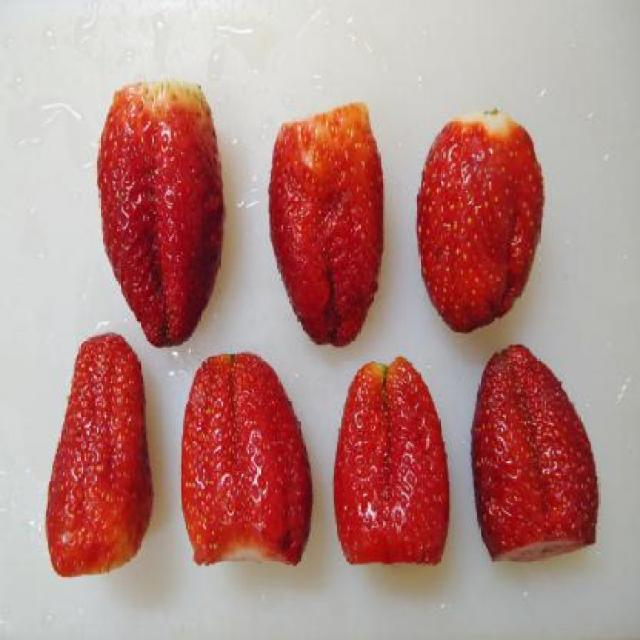Strawberry: (95, 82, 228, 344), (265, 94, 384, 351), (466, 342, 600, 564), (180, 346, 312, 568), (421, 110, 548, 338), (41, 331, 156, 577), (330, 350, 452, 570)
